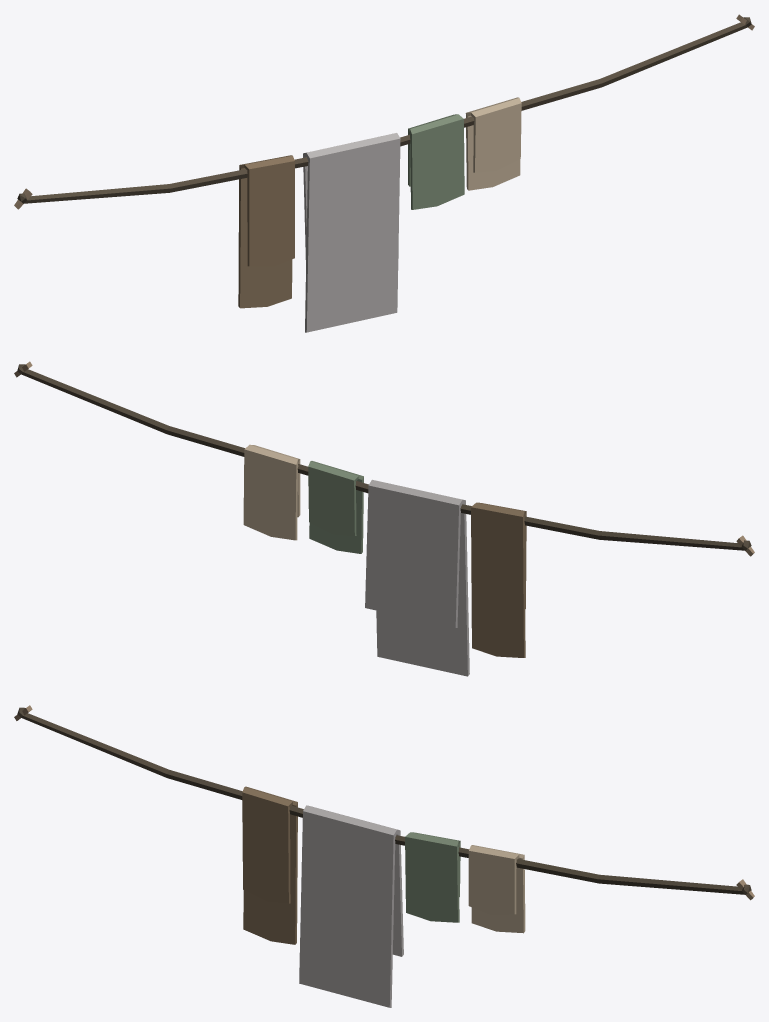
The model's file is SM_Prop_Washingline_03.glb.
3 renders of one model, top to bottom at view 1: azimuth 30°, elevation 25°; view 2: azimuth 150°, elevation 25°; view 3: azimuth 330°, elevation 25°, orthographic.
Parts seen in each view (by area): view 1: SM_Prop_Washingline_03; view 2: SM_Prop_Washingline_03; view 3: SM_Prop_Washingline_03.
Part boxes in pixels (box(x1,y1,x2,y2)): SM_Prop_Washingline_03: box(14, 14, 754, 332); SM_Prop_Washingline_03: box(14, 361, 754, 676); SM_Prop_Washingline_03: box(14, 705, 754, 1007).
Bounding box in the file's own units: 6.91 × 1.88 × 0.1191.
1 material, 1 textured.
